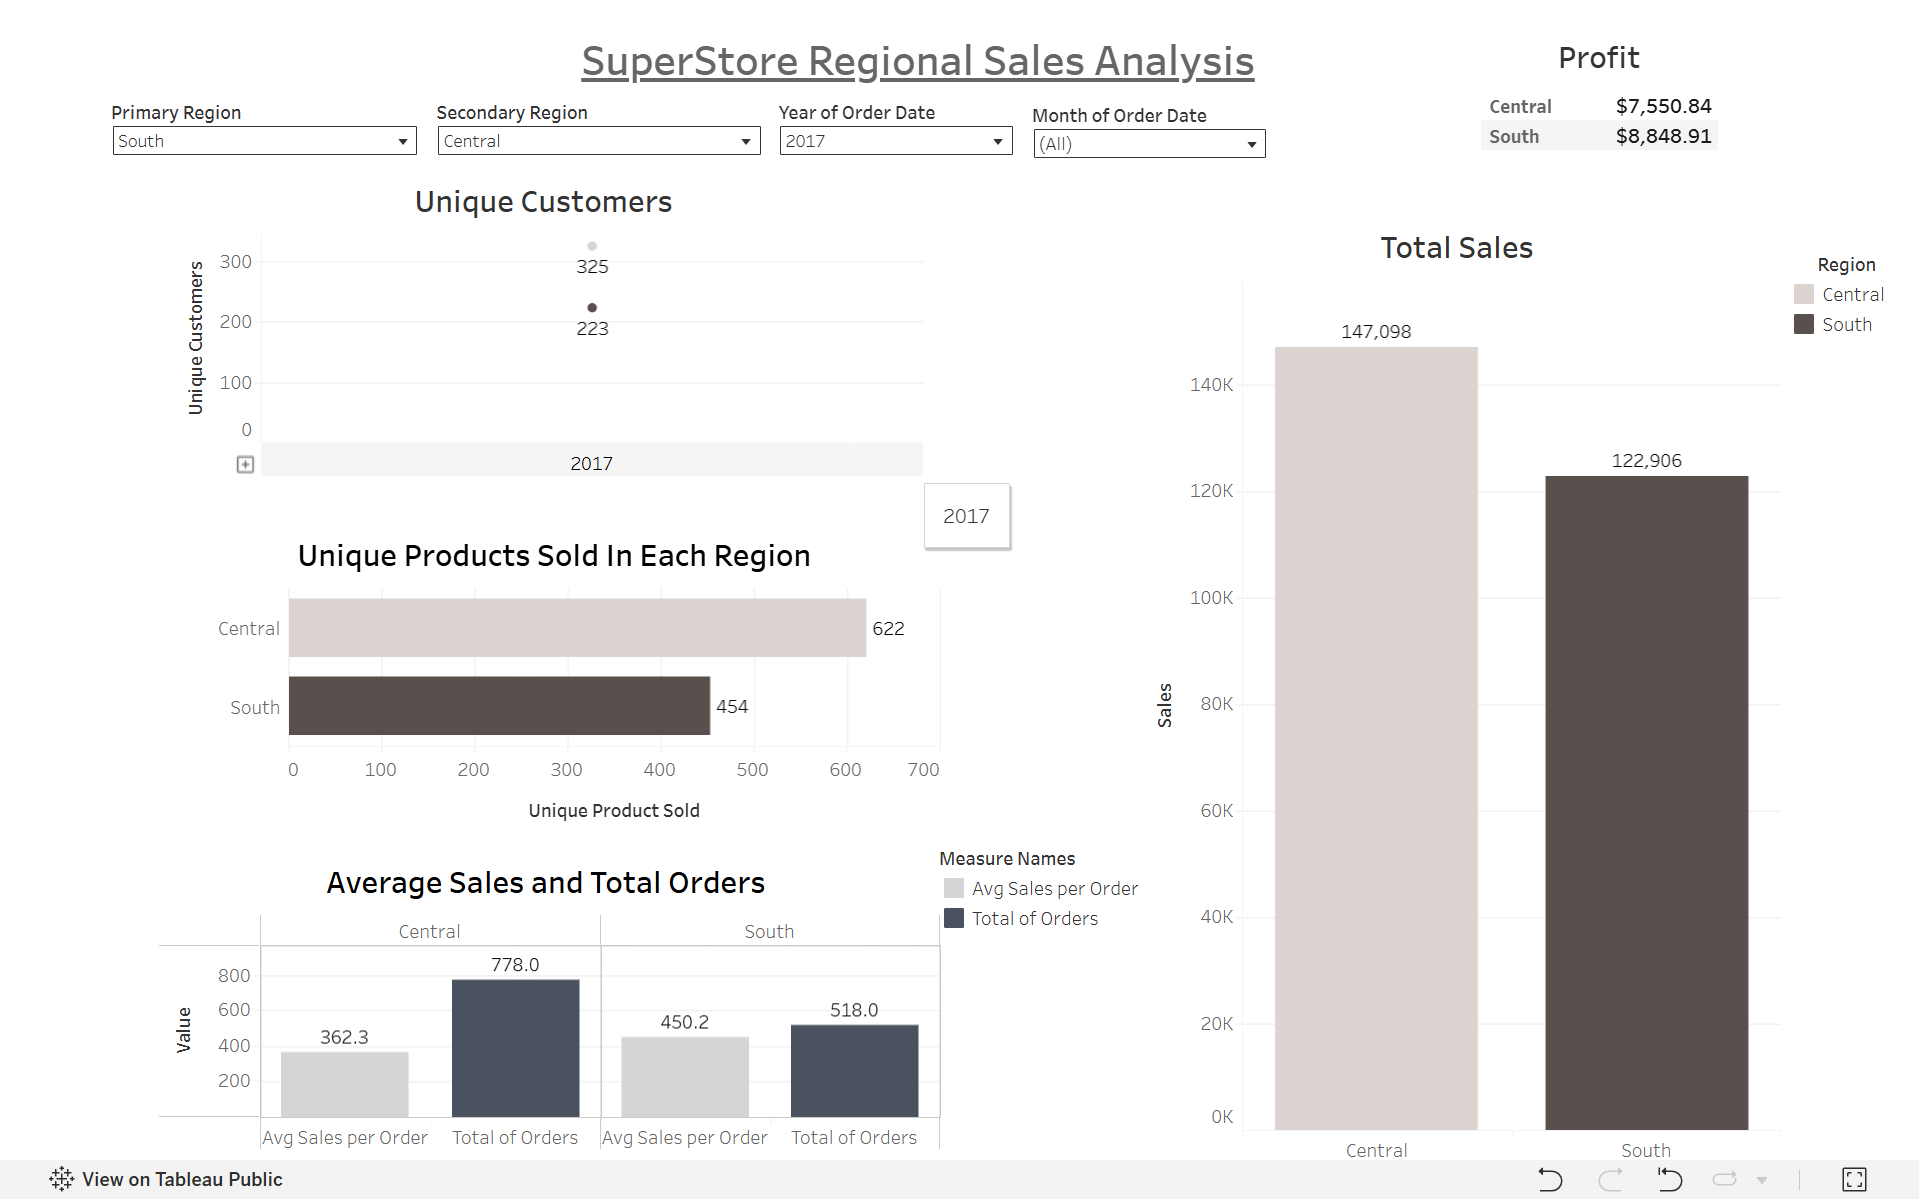

The page's visual inventory and layout, read from the dashboard file:
{"tool":"tableau","page":{"name":"Dashboard 1","canvas":[1000,1000],"units":"permille","ordinal":0},"visuals":[{"type":"text","box":[242.8,6.3,470.7,87.8]},{"type":"worksheet","title":"Sheet 5","mark":"Automatic","rows":["Region"],"box":[770.9,21.9,171.7,167.7]},{"type":"parameter","param":"[Parameters].[Parameter 1]","box":[57.5,84.6,160.2,65.8]},{"type":"parameter","param":"[Parameters].[Parameter 2]","box":[227.6,84.6,169.3,73.7]},{"type":"filter","title":"Sheet 1","param":"[federated.16u9y2v0gbl93h18o0pgm0v2n4fz].[yr:Order Date:ok]","box":[405.4,84.6,122.6,75.2]},{"type":"filter","title":"Sheet 1","param":"[federated.16u9y2v0gbl93h18o0pgm0v2n4fz].[mn:Order Date:ok]","box":[537.2,86.2,122.6,75.2]},{"type":"worksheet","title":"Sheet 3","mark":"Automatic","rows":["Calculation_0014019557298286"],"cols":["Order Date"],"box":[88.9,145.8,391.6,264.9]},{"type":"worksheet","title":"Sheet 1","mark":"Automatic","rows":["Sales"],"cols":["Calculation_0014019552890979"],"box":[593.9,186.5,333.3,816.6]},{"type":"legend","title":"Sheet 1","param":"[federated.16u9y2v0gbl93h18o0pgm0v2n4fz].[none:Calculation_0014019552890979:nk]","box":[931.8,216.3,62.1,92.5]},{"type":"worksheet","title":"Sheet 4","mark":"Automatic","rows":["Calculation_0014019552890979"],"cols":["Calculation_0014019558559855"],"box":[87.4,451.4,402.3,264.9]},{"type":"legend","title":"Sheet 2","param":"[federated.16u9y2v0gbl93h18o0pgm0v2n4fz].[:Measure Names]","box":[488.9,728.8,118,127]},{"type":"worksheet","title":"Sheet 2","mark":"Automatic","cols":["Calculation_0014019552890979"],"box":[82.8,733.5,406.9,258.6]}]}

Visuals, with their boxes on the dashboard's canvas, which has no fixed pixel size, in thousandths of its width and height (x1, y1, x2, y2). These are canvas units, not pixel positions in the 1919x1199 screenshot, which may show the page scaled, cropped or inside an application window:
text: {"x1": 243, "y1": 6, "x2": 714, "y2": 94}
"Sheet 5" worksheet: {"x1": 771, "y1": 22, "x2": 943, "y2": 190}
parameter: {"x1": 58, "y1": 85, "x2": 218, "y2": 150}
parameter: {"x1": 228, "y1": 85, "x2": 397, "y2": 158}
"Sheet 1" filter: {"x1": 405, "y1": 85, "x2": 528, "y2": 160}
"Sheet 1" filter: {"x1": 537, "y1": 86, "x2": 660, "y2": 161}
"Sheet 3" worksheet: {"x1": 89, "y1": 146, "x2": 480, "y2": 411}
"Sheet 1" worksheet: {"x1": 594, "y1": 186, "x2": 927, "y2": 1003}
"Sheet 1" legend: {"x1": 932, "y1": 216, "x2": 994, "y2": 309}
"Sheet 4" worksheet: {"x1": 87, "y1": 451, "x2": 490, "y2": 716}
"Sheet 2" legend: {"x1": 489, "y1": 729, "x2": 607, "y2": 856}
"Sheet 2" worksheet: {"x1": 83, "y1": 734, "x2": 490, "y2": 992}
